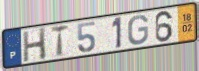1: (110, 16, 123, 50)
5: (77, 20, 97, 54)
6: (155, 9, 175, 43)
G: (127, 14, 150, 46)
H: (22, 26, 48, 63)
T: (51, 23, 71, 59)
